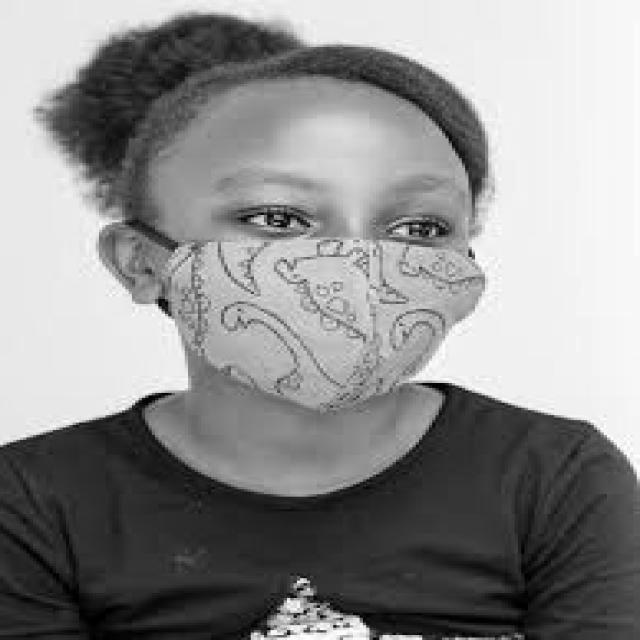fake: (159, 242, 493, 404)
real: (175, 76, 472, 429)
